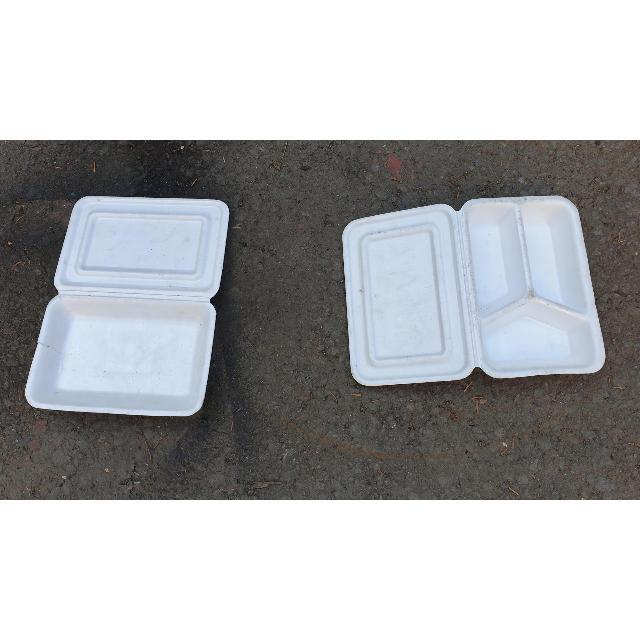Plastico descartable: (341, 196, 606, 387), (24, 198, 229, 420)
